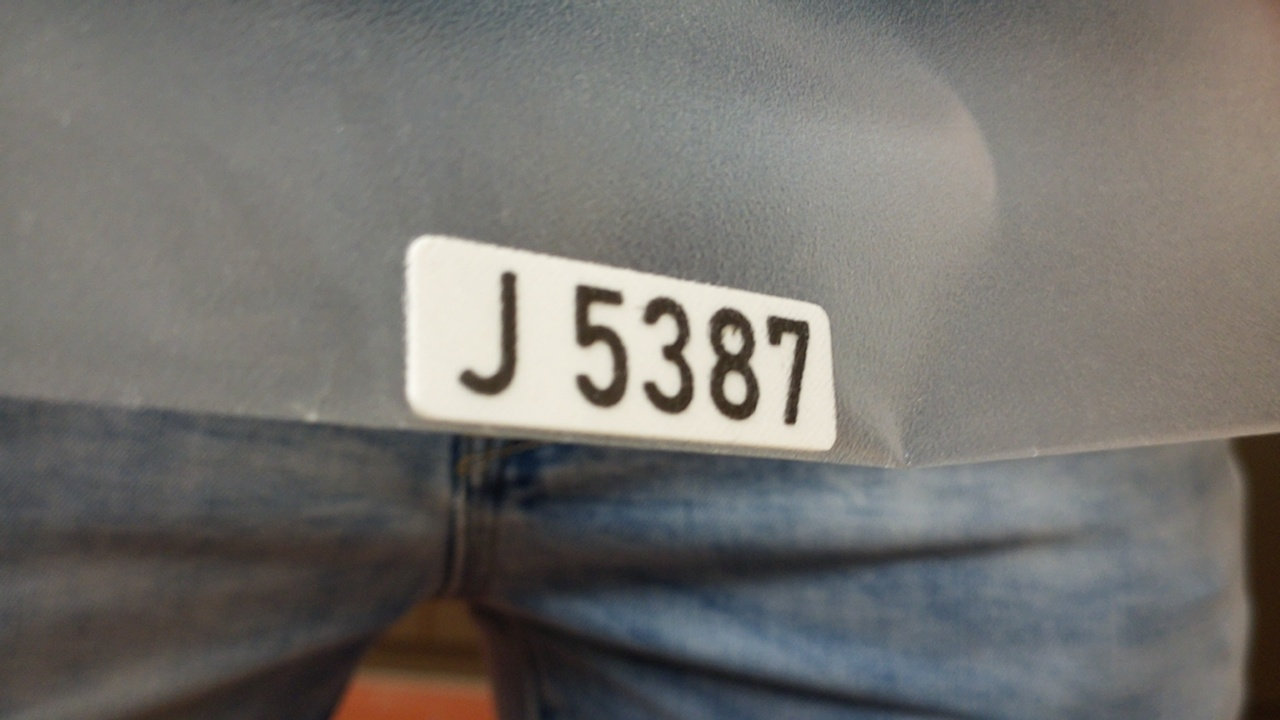license_plate: (399, 224, 841, 457)
